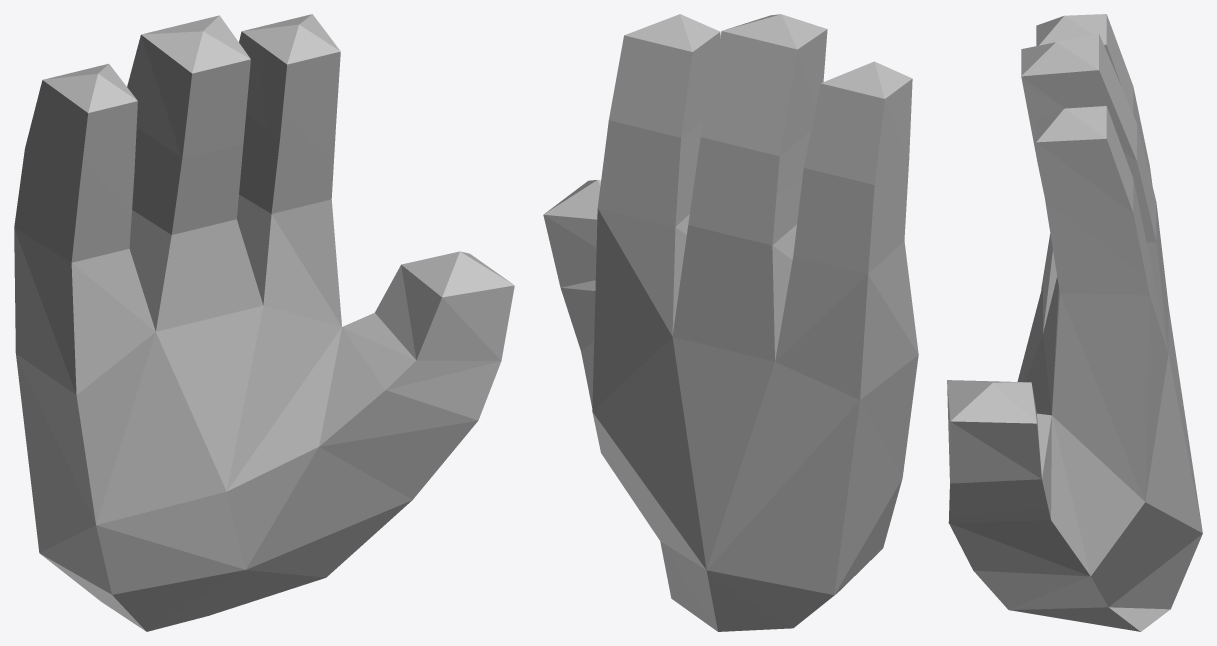
The model's file is Fantasmanomano.obj.
3 renders of one model, left to right at view 1: azimuth 30°, elevation 25°; view 2: azimuth 150°, elevation 25°; view 3: azimuth 270°, elevation 25°, orthographic. The views are drawn at different scales.
Parts seen in each view (by area): view 1: Fantasmano.002_Material.001; view 2: Fantasmano.002_Material.001; view 3: Fantasmano.002_Material.001.
Boxes of the visible parts, <box> form: Fantasmano.002_Material.001: <box>14,14,514,631</box>; Fantasmano.002_Material.001: <box>543,14,918,631</box>; Fantasmano.002_Material.001: <box>947,14,1202,631</box>.
Bounding box in the file's own units: 1.4 × 2.01 × 0.8252.
